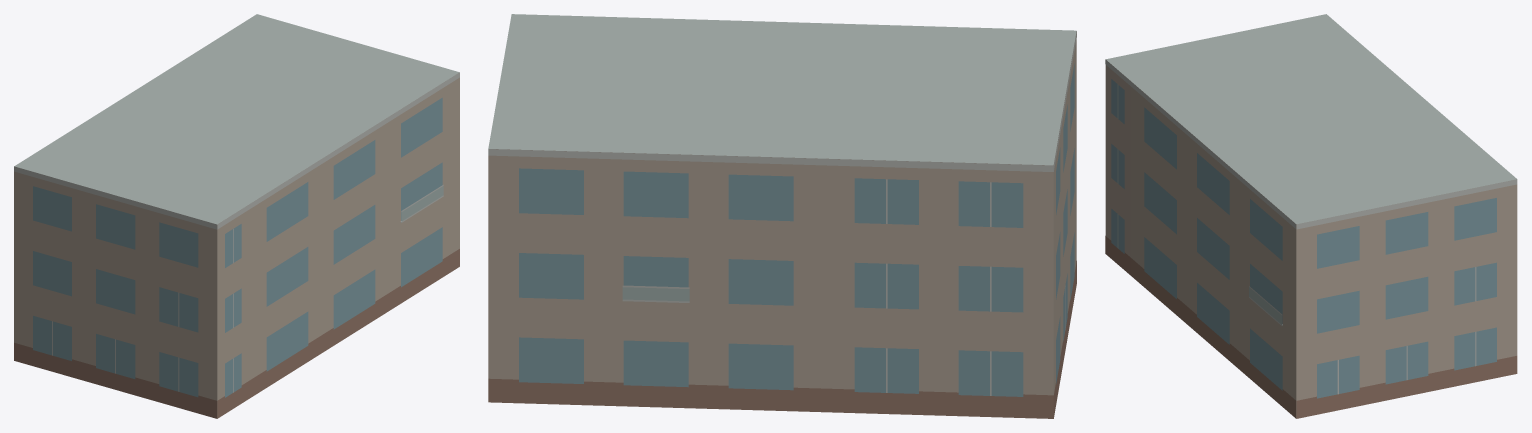
The model's file is survey-upis-32841257.glb.
The picture shows the model from 3 angles, left to right: view 1: azimuth 30°, elevation 25°; view 2: azimuth 150°, elevation 25°; view 3: azimuth 270°, elevation 25°; orthographic projection. The views are drawn at different scales.
Visible parts, largest first — view 1: survey-upis-32841257.tmp; view 2: survey-upis-32841257.tmp; view 3: survey-upis-32841257.tmp.
Part boxes in pixels (x1,y1,x2,y2): survey-upis-32841257.tmp: (14, 14, 459, 418); survey-upis-32841257.tmp: (488, 14, 1076, 418); survey-upis-32841257.tmp: (1105, 14, 1517, 418).
Size of the model in its own units: 21.22 by 9.15 by 17.56.
